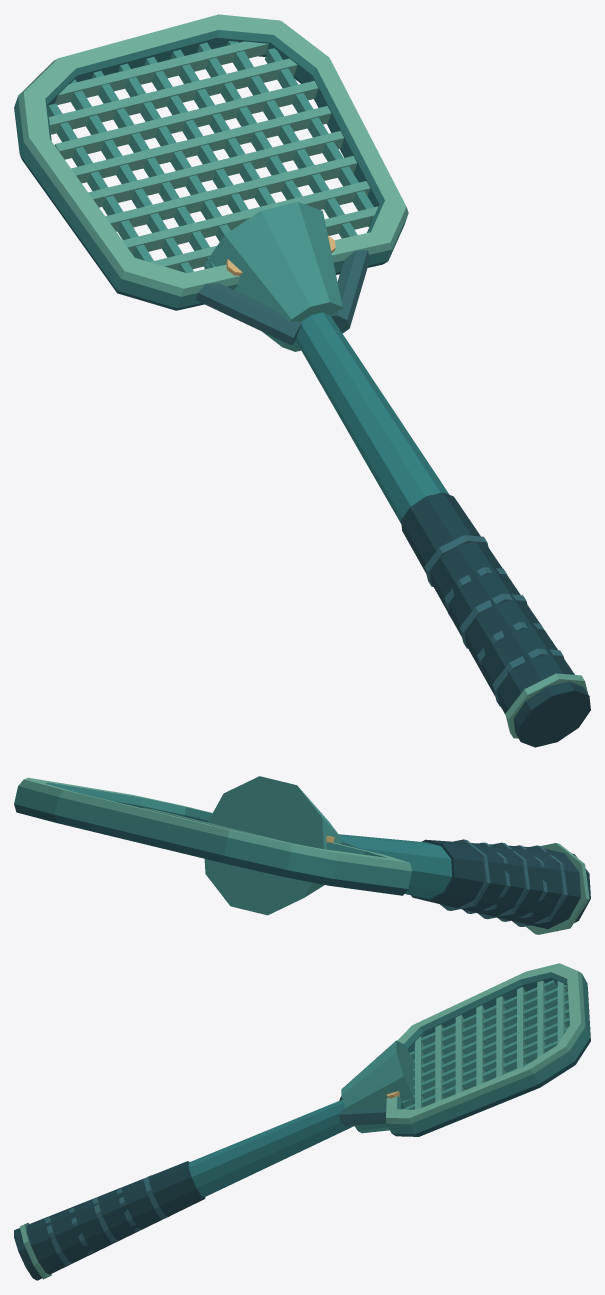
Rendered from flyswatter.glb.
3 views of the same model, one above another, from view 1: azimuth 30°, elevation 25°; view 2: azimuth 150°, elevation 25°; view 3: azimuth 270°, elevation 25° (orthographic). The views are drawn at different scales.
Parts seen in each view (by area): view 1: Flyswatter rubber grip, turquoise stem and open lattice; view 2: Flyswatter rubber grip, turquoise stem and open lattice; view 3: Flyswatter rubber grip, turquoise stem and open lattice.
Part boxes in pixels (box(x1,y1,x2,y2)): Flyswatter rubber grip, turquoise stem and open lattice: box(14, 14, 590, 747); Flyswatter rubber grip, turquoise stem and open lattice: box(14, 776, 590, 934); Flyswatter rubber grip, turquoise stem and open lattice: box(14, 963, 590, 1280).
Bounding box in the file's own units: 0.1381 × 0.1771 × 0.3308.
